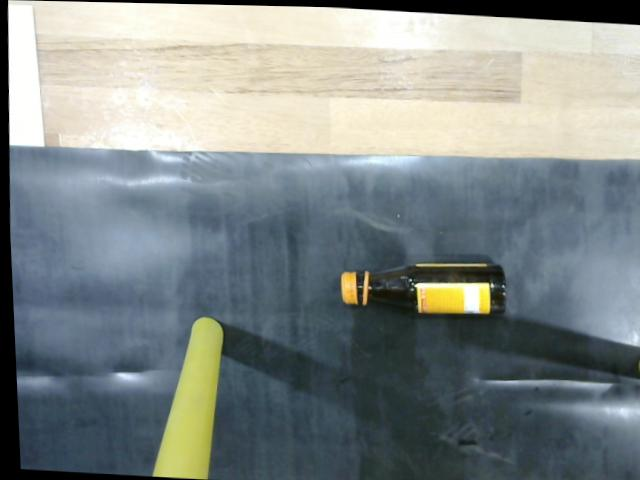glass: (336, 256, 511, 319)
